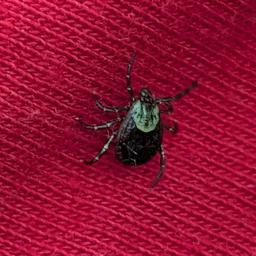Dermacentor variabilis: (101, 40, 206, 171)
